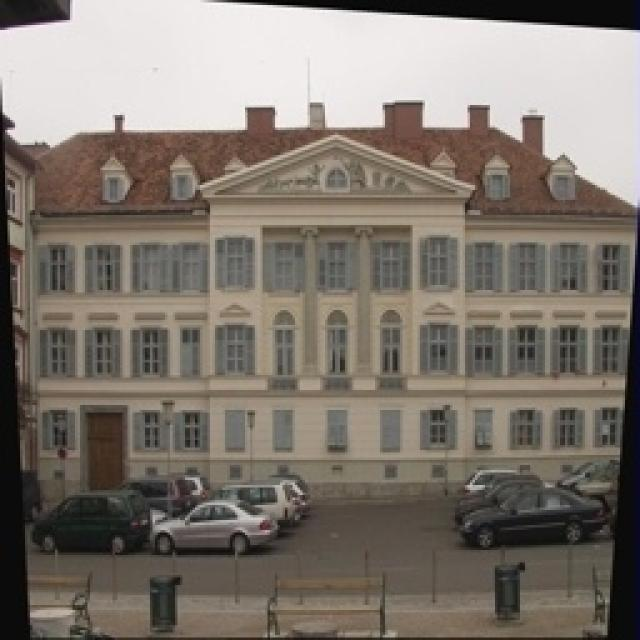building: (30, 128, 640, 500)
